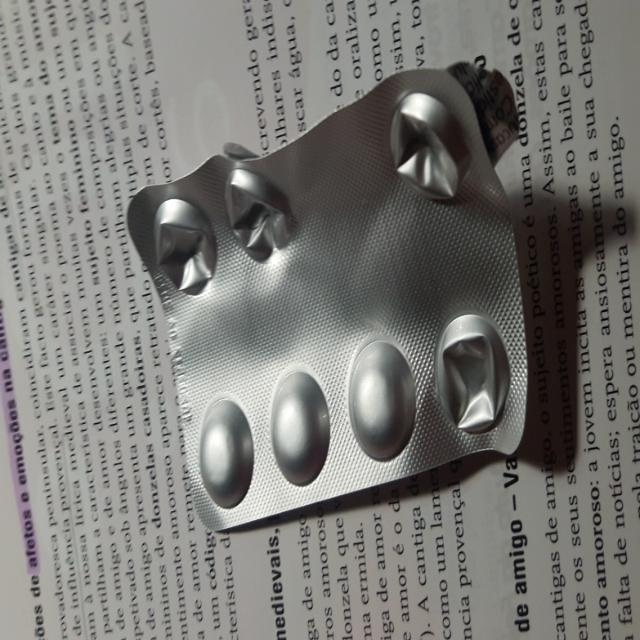Empty: (428, 304, 510, 446), (385, 76, 465, 216), (145, 196, 225, 302), (226, 158, 293, 270)
Pill: (341, 326, 416, 476), (186, 386, 254, 512), (264, 362, 326, 490)
